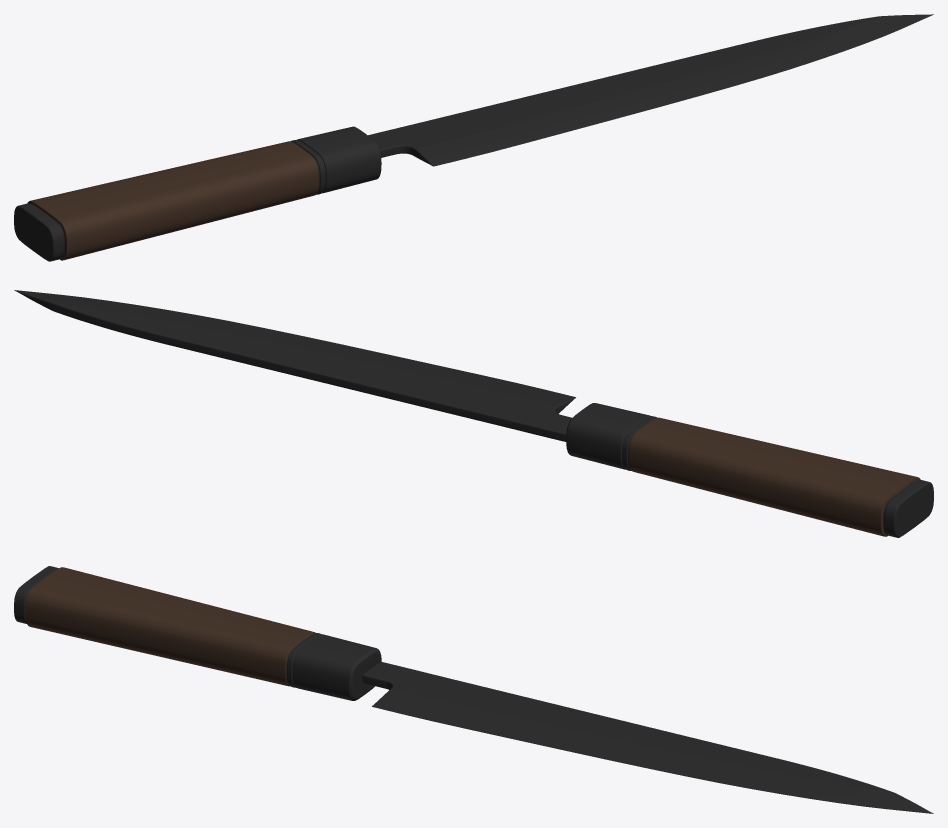
The model's file is SM_Knife.fbx.
3 renders of one model, top to bottom at view 1: azimuth 30°, elevation 25°; view 2: azimuth 150°, elevation 25°; view 3: azimuth 330°, elevation 25°, orthographic.
Parts seen in each view (by area): view 1: pCube3; view 2: pCube3; view 3: pCube3.
Part boxes in pixels (bbox=[...]): pCube3: bbox=[14, 14, 933, 261]; pCube3: bbox=[14, 290, 933, 537]; pCube3: bbox=[14, 566, 933, 813].
Bounding box in the file's own units: 39.38 × 1.65 × 3.91.
